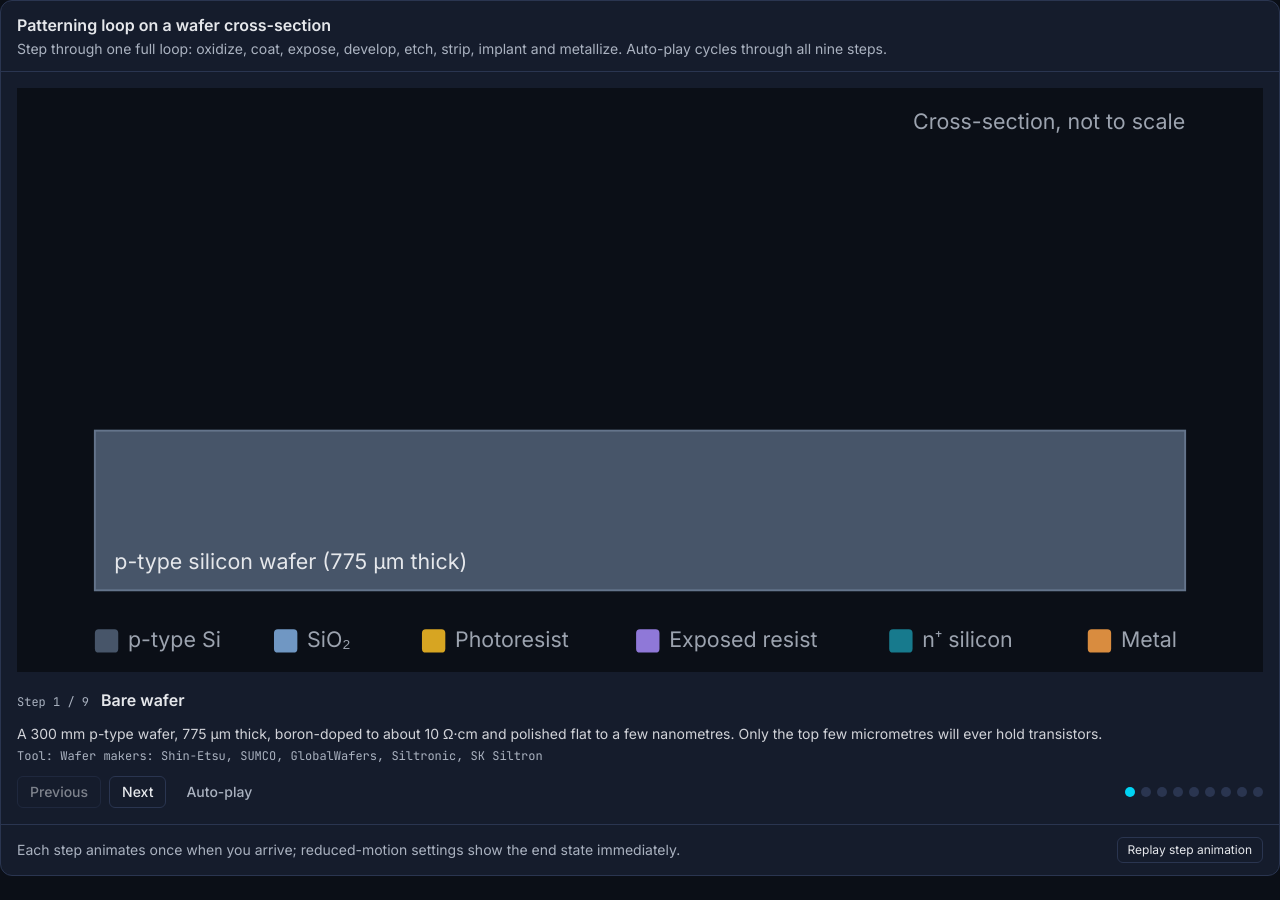
Test: FabProcessStepper › walks through the nine process steps
Expected: the text "Step 1 / 9" is shown, [17,694,89,710]
Click the button "Next".
click(138, 792)  # box [109,776,166,808]
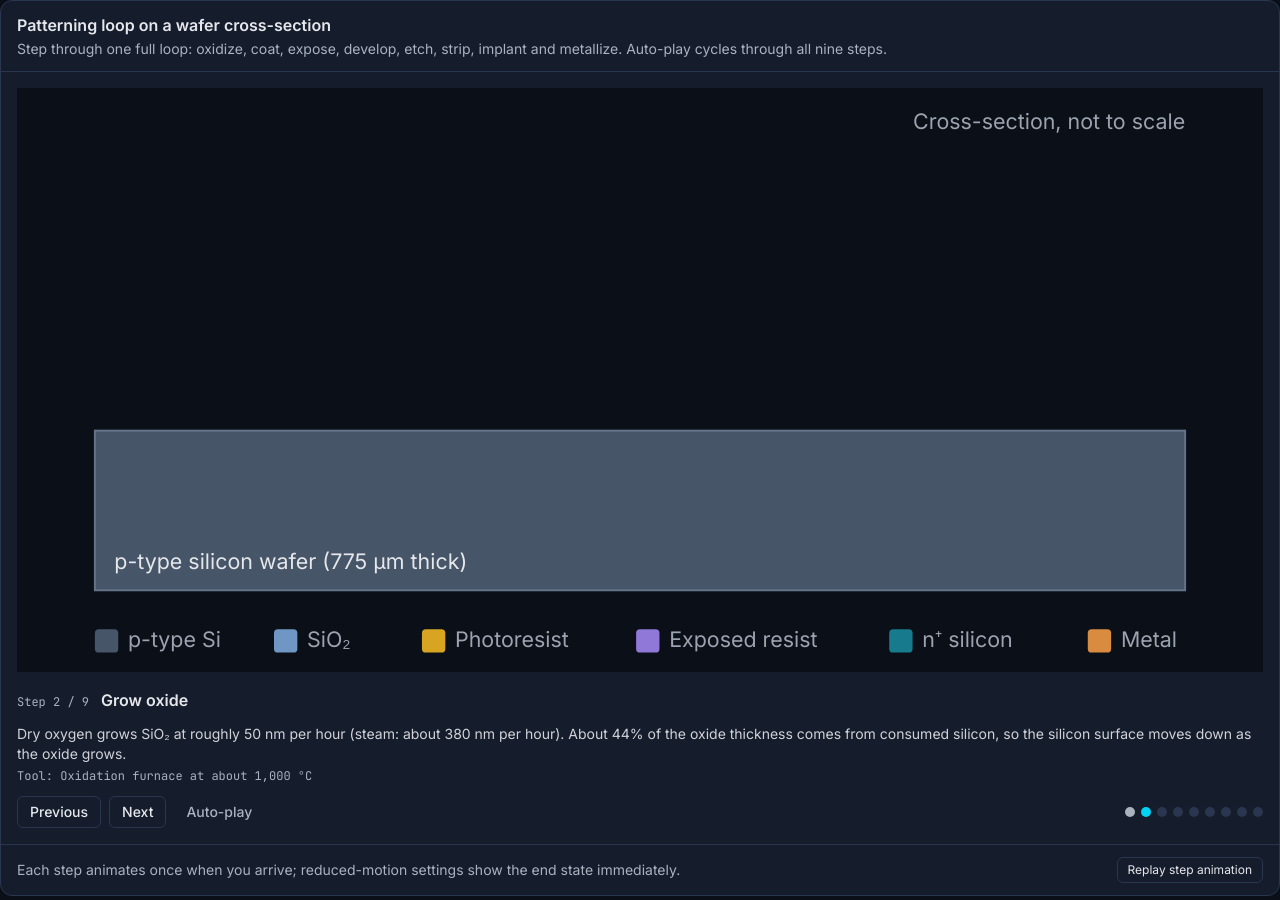
Now the text "Step 2 / 9" is shown, box [17,694,89,710]
Click the button named "go to step 9".
click(1258, 812)  # box [1253,807,1263,817]
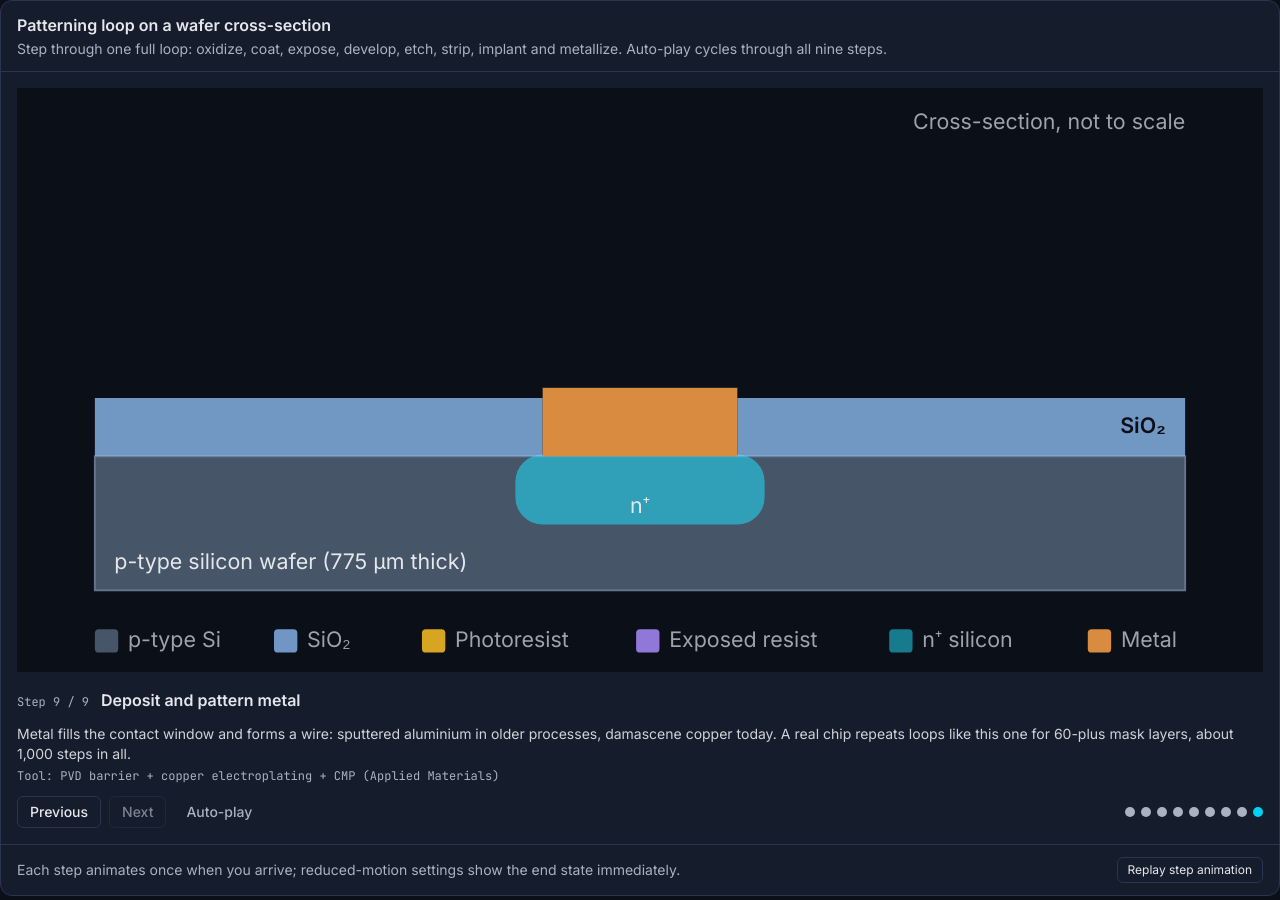
Now the text "Step 9 / 9" is shown, box [17,694,89,710]
Now the heading "Deposit and pattern metal" is shown, box [101,688,300,712]
